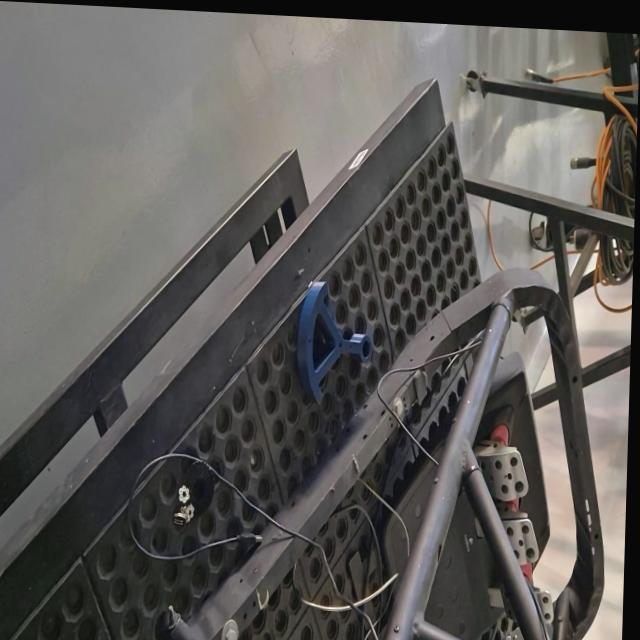haptic: (294, 277, 374, 408)
